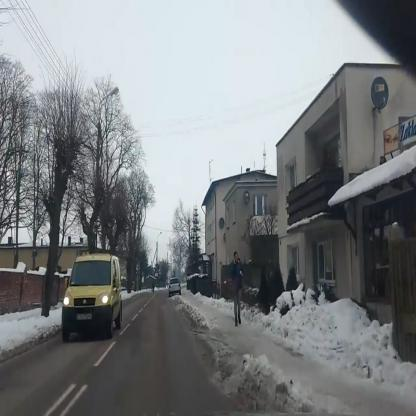cars: (61, 253, 122, 342), (168, 277, 181, 296)
